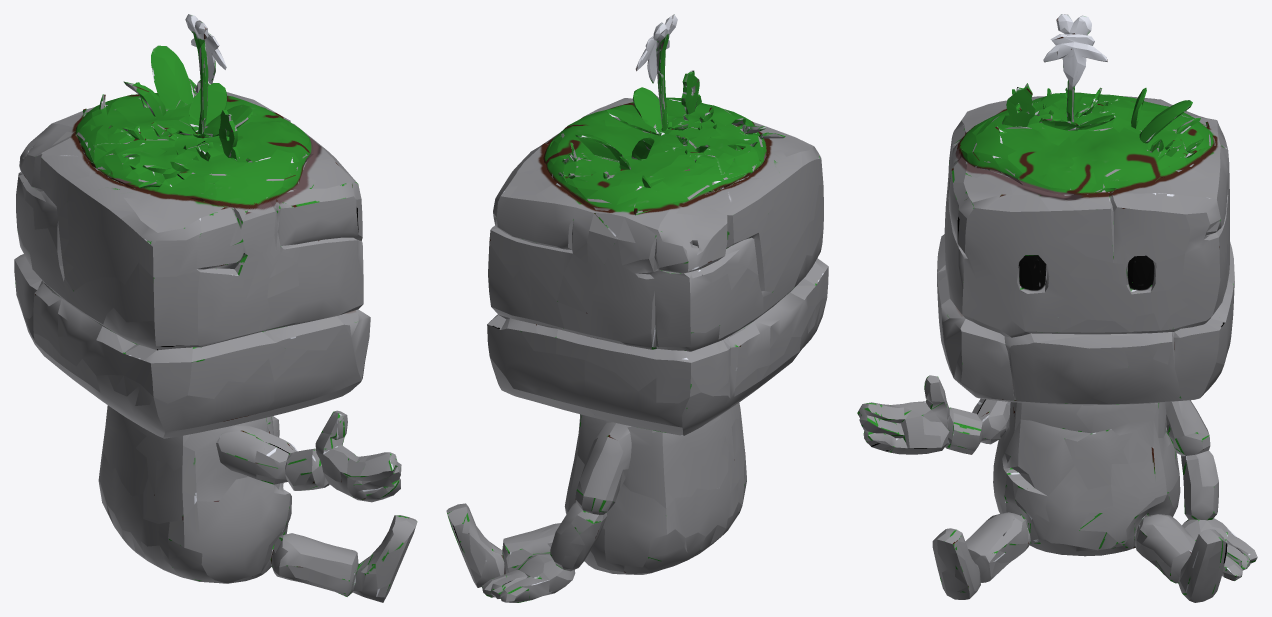
The model's file is roco3.fbx.
3 renders of one model, left to right at view 1: azimuth 30°, elevation 25°; view 2: azimuth 150°, elevation 25°; view 3: azimuth 270°, elevation 25°, orthographic. The views are drawn at different scales.
Visible parts, largest first — view 1: tripo_node_01bce06e-46b1-4cb7-a97a-29e4bd30b4a1; view 2: tripo_node_01bce06e-46b1-4cb7-a97a-29e4bd30b4a1; view 3: tripo_node_01bce06e-46b1-4cb7-a97a-29e4bd30b4a1.
Part boxes in pixels (bbox=[...]): tripo_node_01bce06e-46b1-4cb7-a97a-29e4bd30b4a1: bbox=[14, 14, 417, 602]; tripo_node_01bce06e-46b1-4cb7-a97a-29e4bd30b4a1: bbox=[446, 14, 828, 602]; tripo_node_01bce06e-46b1-4cb7-a97a-29e4bd30b4a1: bbox=[857, 14, 1257, 602].
Size of the model in its own units: 51.25 by 100 by 68.69.
Materials: 1 (1 with a texture image).
